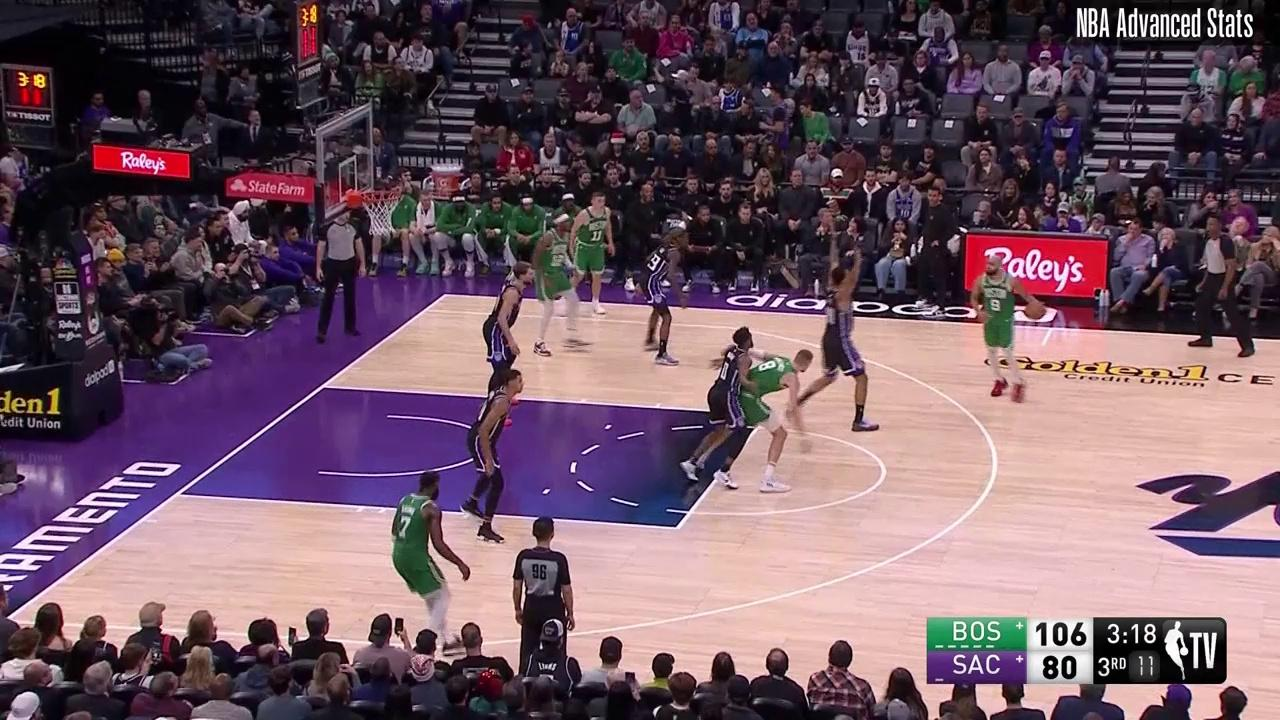3_dx: (417, 305, 431, 317)
b_dx: (438, 288, 453, 302)
free_asx: (670, 519, 686, 536)
free_bdx: (317, 378, 329, 394)
free_bsx: (170, 488, 185, 500)
mid_dx: (1038, 340, 1048, 349)
referee: (511, 512, 577, 673), (1185, 218, 1258, 358), (310, 206, 363, 339)
team: (389, 467, 471, 640), (720, 350, 815, 496), (975, 255, 1033, 403), (534, 212, 583, 357), (569, 191, 618, 313)
team1: (793, 267, 886, 433), (464, 372, 526, 540), (686, 331, 751, 486), (488, 259, 535, 423), (641, 231, 693, 363)
timer: (1106, 619, 1157, 646)
